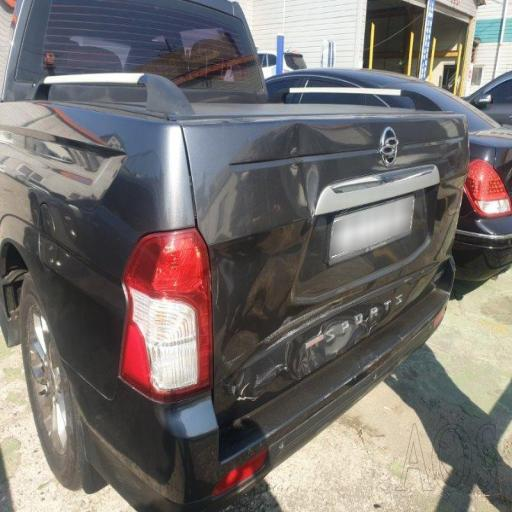dent: (196, 132, 422, 378), (12, 112, 140, 202)
scratch: (26, 200, 90, 285)
